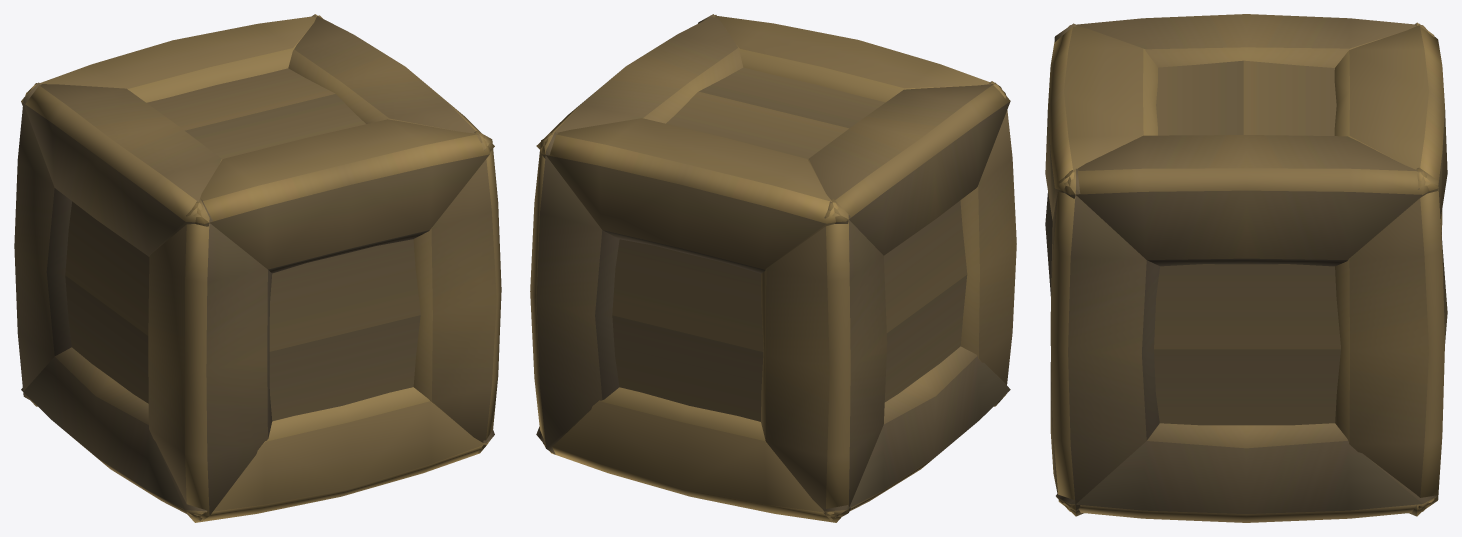
File: box_wooden_2_destructible.fbx
The picture shows the model from 3 angles, left to right: view 1: azimuth 30°, elevation 25°; view 2: azimuth 150°, elevation 25°; view 3: azimuth 270°, elevation 25°; orthographic projection. The views are drawn at different scales.
Parts seen in each view (by area): view 1: box_wooden_2_part12, box_wooden_2_part8, box_wooden_2_part11, box_wooden_2_part9, box_wooden_2_part5, box_wooden_2_part1, box_wooden_2_part10, box_wooden_2_part3; view 2: box_wooden_2_part11, box_wooden_2_part10, box_wooden_2_part1, box_wooden_2_part4, box_wooden_2_part8, box_wooden_2_part6, box_wooden_2_part5, box_wooden_2_part12, box_wooden_2_part3; view 3: box_wooden_2_part9, box_wooden_2_part3, box_wooden_2_part6, box_wooden_2_part8, box_wooden_2_part2, box_wooden_2_part11, box_wooden_2_part12.
Part boxes in pixels (box(x1,y1,x2,y2)): box_wooden_2_part12: box(148, 199, 488, 522); box_wooden_2_part8: box(146, 68, 490, 273); box_wooden_2_part11: box(21, 15, 322, 256); box_wooden_2_part9: box(413, 131, 501, 449); box_wooden_2_part5: box(65, 201, 149, 403); box_wooden_2_part1: box(14, 82, 71, 400); box_wooden_2_part10: box(21, 347, 207, 520); box_wooden_2_part3: box(288, 16, 494, 150); box_wooden_2_part11: box(540, 82, 1010, 273); box_wooden_2_part10: box(542, 346, 1010, 522); box_wooden_2_part1: box(761, 199, 887, 517); box_wooden_2_part4: box(612, 239, 763, 421); box_wooden_2_part8: box(666, 15, 1006, 159); box_wooden_2_part6: box(530, 132, 619, 454); box_wooden_2_part5: box(884, 201, 967, 402); box_wooden_2_part12: box(960, 81, 1016, 406); box_wooden_2_part3: box(536, 15, 743, 149); box_wooden_2_part9: box(1050, 168, 1340, 511); box_wooden_2_part3: box(1063, 135, 1429, 266); box_wooden_2_part6: box(1335, 167, 1447, 509); box_wooden_2_part8: box(1045, 24, 1336, 220); box_wooden_2_part2: box(1056, 423, 1436, 522); box_wooden_2_part11: box(1068, 14, 1447, 218); box_wooden_2_part12: box(1045, 23, 1083, 516).
Size of the model in its own units: 107 by 106 by 107.
